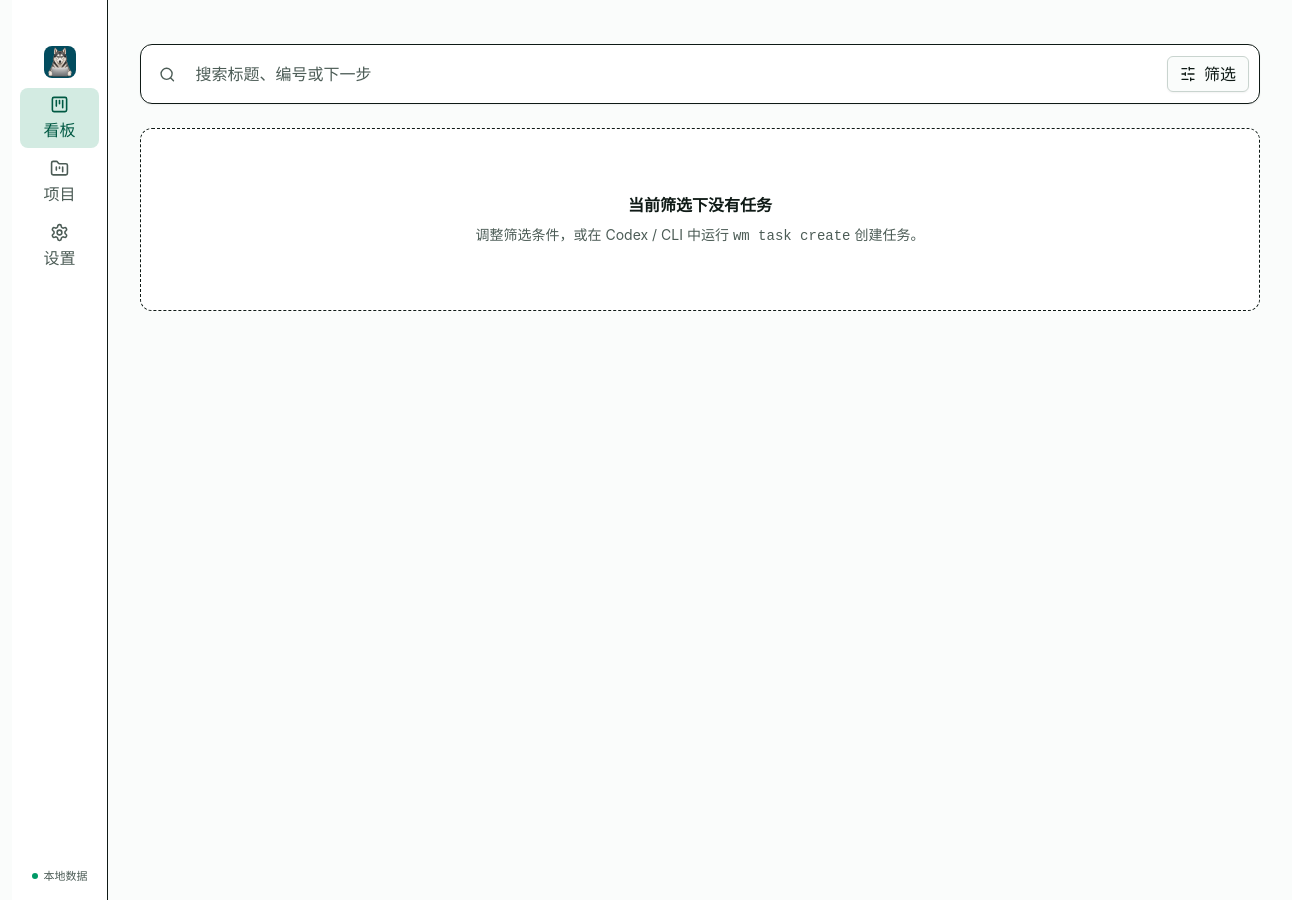
Scenario: 应用级项目初始化与重设 › 连续操作在顶部 Toast 队列中显示，进入项目详情后仍保留
Click the button "项目": x=60, y=182 x1=20 y1=152 x2=99 y2=212
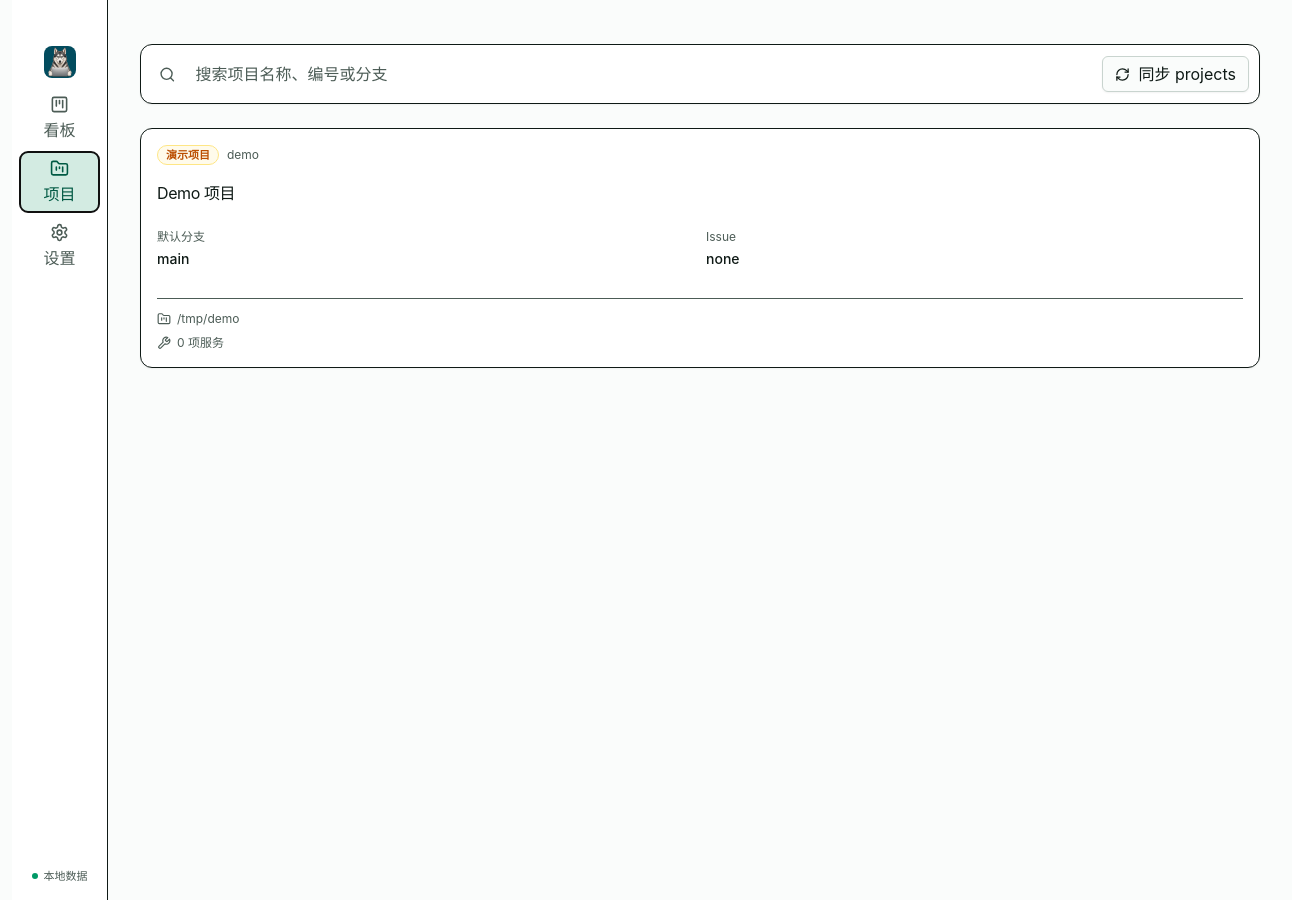
Click the button "同步 projects": x=1176, y=74 x1=1102 y1=56 x2=1249 y2=92
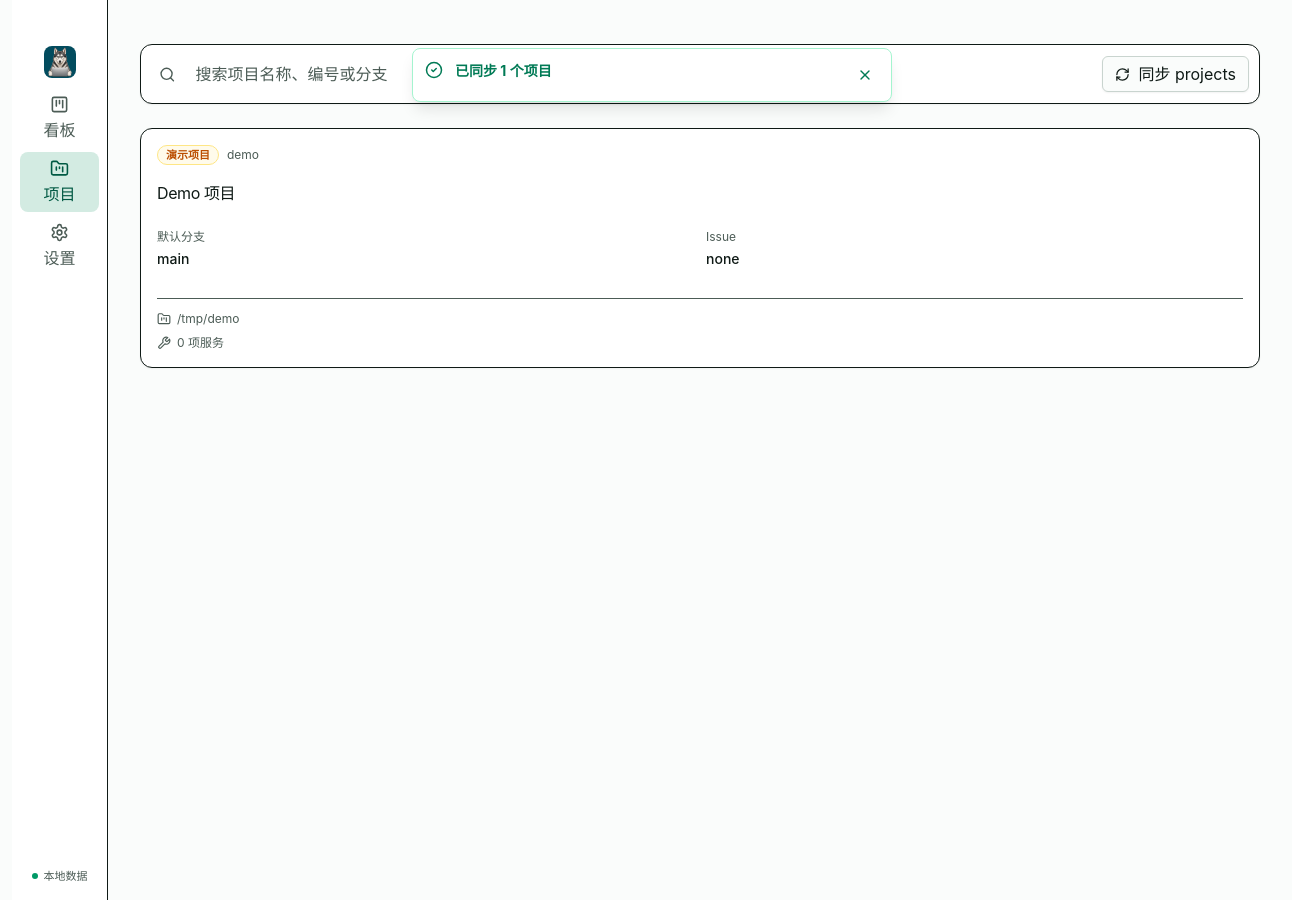
Click the button "同步 projects": x=1176, y=74 x1=1102 y1=56 x2=1249 y2=92
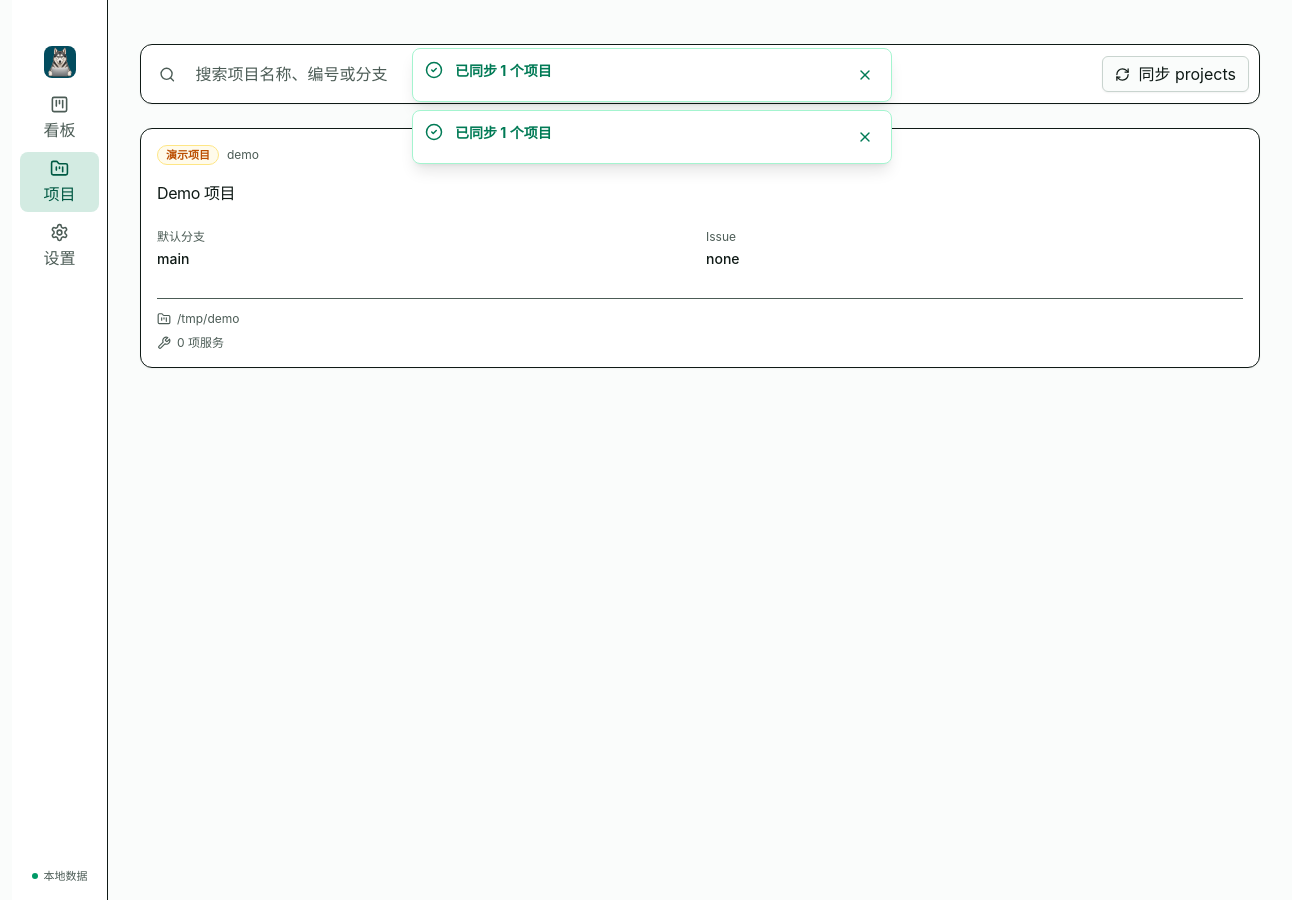
Now the element named "操作通知" is shown, box x1=412 y1=48 x2=892 y2=164
Now the text "已同步 1 个项目" is shown 2 times, box x1=455 y1=62 x2=552 y2=79; x1=455 y1=124 x2=552 y2=141
Click the button "Demo 项目": x=196, y=193 x1=157 y1=181 x2=1243 y2=205
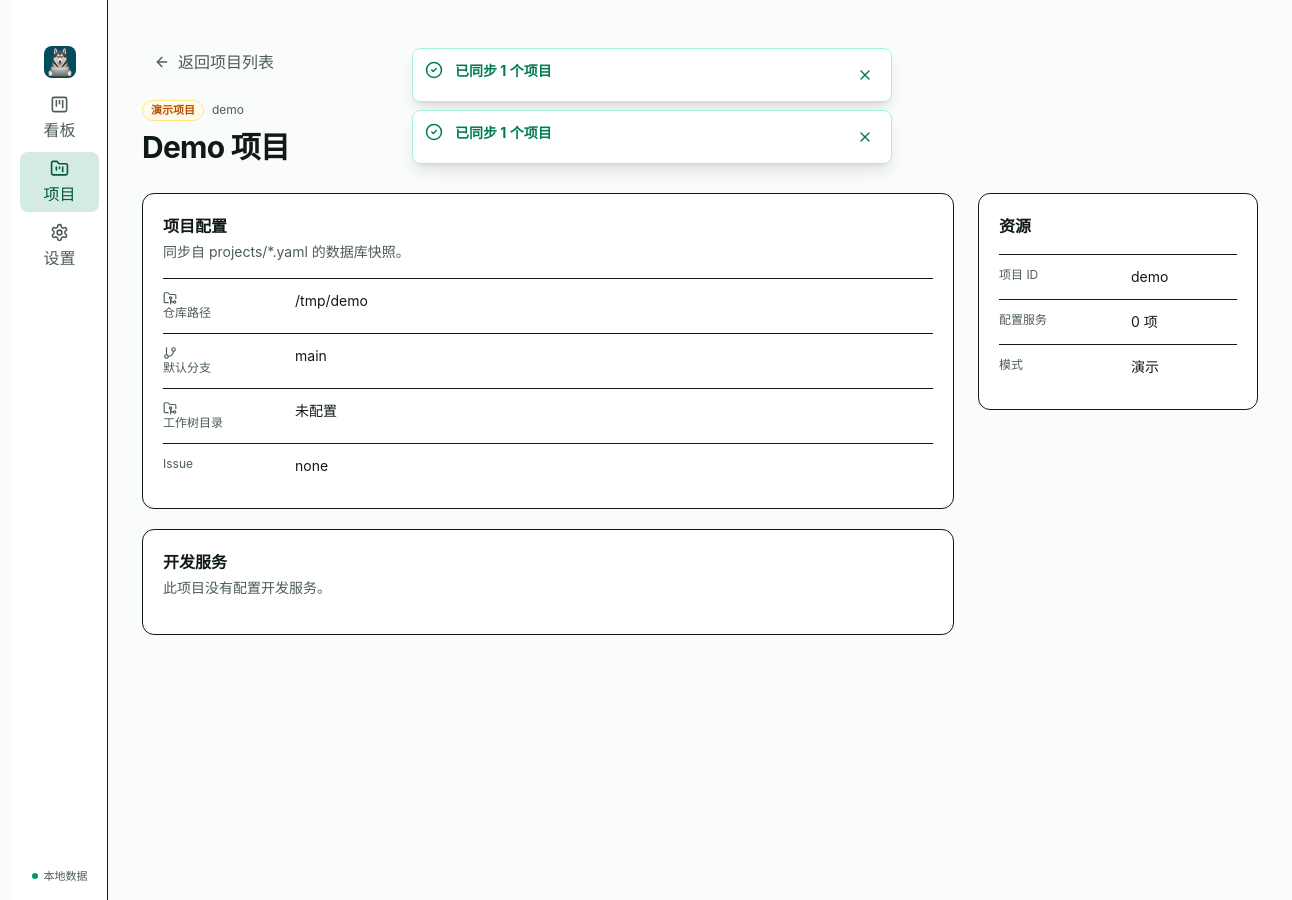
Now the text "已同步 1 个项目" is shown 2 times, box x1=455 y1=62 x2=552 y2=79; x1=455 y1=124 x2=552 y2=141
Now the heading "项目配置" is shown, box x1=163 y1=216 x2=227 y2=236
